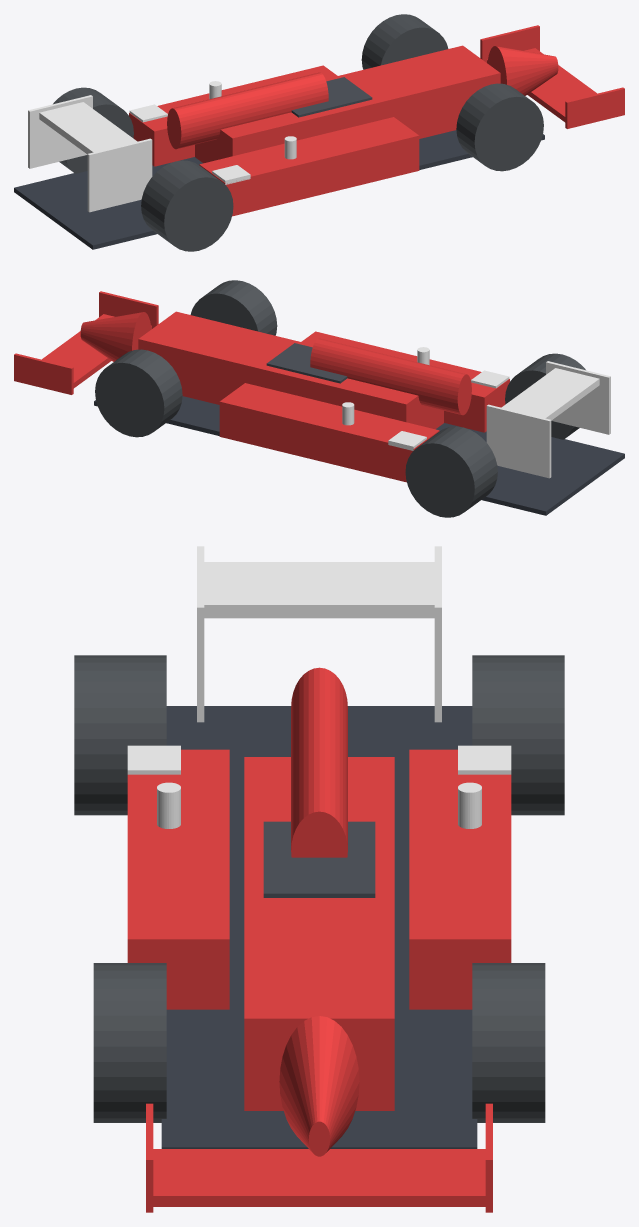
The picture shows the model from 3 angles, top to bottom: view 1: azimuth 30°, elevation 25°; view 2: azimuth 150°, elevation 25°; view 3: azimuth 270°, elevation 25°; orthographic projection. The views are drawn at different scales.
Parts seen in each view (by area): view 1: chassis_monocoque, sidepod_right, chassis_undertray, wheel_rr_tire, wheel_fr_tire, engine_cowl_airbox, rear_endplate_right, wheel_fl_tire, rear_wing_mainplane, sidepod_left, chassis_droop_nose, rear_endplate_left (+7 smaller); view 2: chassis_monocoque, sidepod_left, chassis_undertray, wheel_rl_tire, wheel_fl_tire, engine_cowl_airbox, rear_endplate_left, wheel_fr_tire, rear_wing_mainplane, sidepod_right, chassis_droop_nose, rear_endplate_right (+7 smaller); view 3: chassis_undertray, chassis_monocoque, sidepod_left, sidepod_right, front_wing_cascade, rear_wing_mainplane, wheel_rl_tire, wheel_rr_tire, wheel_fl_tire, wheel_fr_tire, engine_cowl_airbox, chassis_droop_nose (+7 smaller).
Boxes of the visible parts, x1,y1,x2,y2 form: chassis_monocoque: (195, 45, 500, 163); sidepod_right: (199, 117, 419, 216); chassis_undertray: (14, 130, 544, 249); wheel_rr_tire: (141, 160, 233, 251); wheel_fr_tire: (456, 83, 543, 171); engine_cowl_airbox: (167, 72, 328, 149); rear_endplate_right: (87, 138, 152, 212); wheel_fl_tire: (361, 14, 448, 69); rear_wing_mainplane: (39, 102, 137, 154); sidepod_left: (129, 65, 337, 166); chassis_droop_nose: (487, 46, 558, 95); rear_endplate_left: (28, 95, 92, 168); chassis_monocoque: (138, 311, 443, 429); sidepod_left: (219, 383, 439, 482); chassis_undertray: (94, 396, 624, 515); wheel_rl_tire: (405, 426, 497, 517); wheel_fl_tire: (95, 349, 182, 437); engine_cowl_airbox: (310, 338, 471, 415); rear_endplate_left: (486, 404, 551, 478); wheel_fr_tire: (190, 280, 277, 335); rear_wing_mainplane: (501, 368, 599, 420); sidepod_right: (301, 331, 509, 432); chassis_droop_nose: (80, 312, 151, 361); rear_endplate_right: (546, 361, 610, 434); chassis_undertray: (161, 706, 477, 1148); chassis_monocoque: (244, 757, 394, 1110); sidepod_left: (409, 749, 511, 1009); sidepod_right: (127, 749, 229, 1009); front_wing_cascade: (153, 1149, 485, 1206); rear_wing_mainplane: (204, 562, 434, 618); wheel_rl_tire: (472, 655, 564, 815); wheel_rr_tire: (74, 655, 166, 815); wheel_fl_tire: (472, 963, 545, 1122); wheel_fr_tire: (93, 963, 166, 1122); engine_cowl_airbox: (291, 667, 347, 857); chassis_droop_nose: (279, 1016, 359, 1156).
Bounding box in the file's own units: 5.03 × 0.84 × 2.02.
